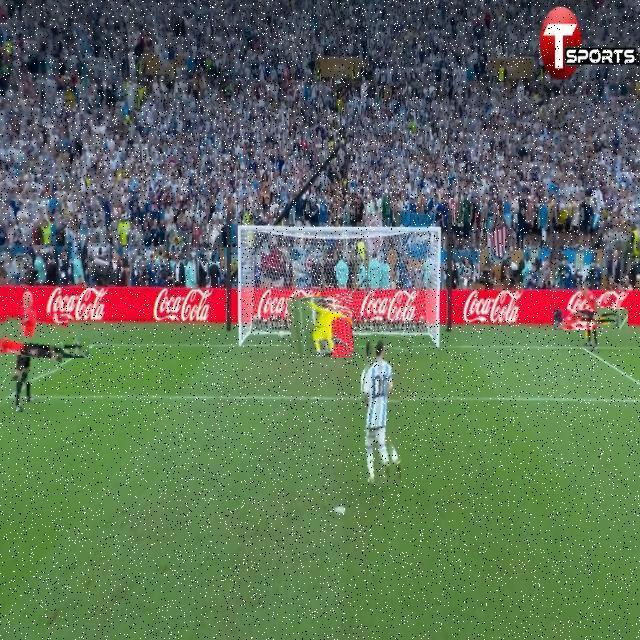ball: (279, 330, 288, 344)
goalkeeper: (289, 295, 354, 360)
player: (353, 333, 407, 485)
referee: (0, 307, 65, 386), (567, 295, 615, 343)
